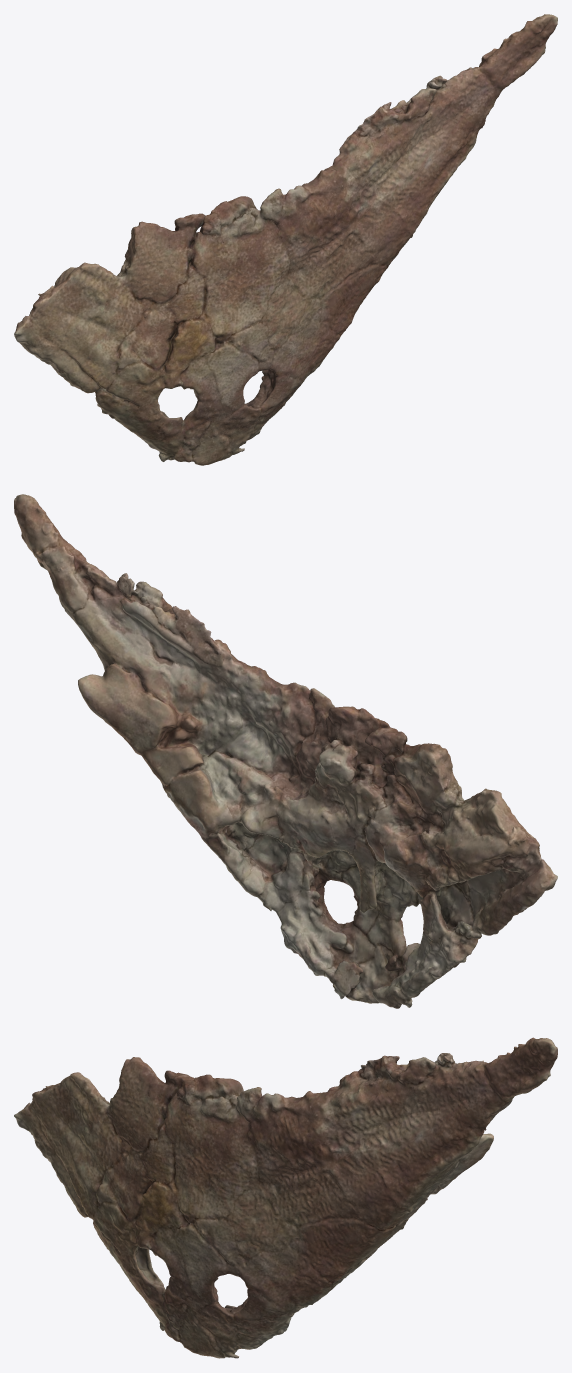
The picture shows the model from 3 angles, top to bottom: view 1: azimuth 30°, elevation 25°; view 2: azimuth 150°, elevation 25°; view 3: azimuth 330°, elevation 25°; orthographic projection. The views are drawn at different scales.
Visible parts, largest first — view 1: Diplocaulus_magnicornis-unwrapped-webmulti; view 2: Diplocaulus_magnicornis-unwrapped-webmulti; view 3: Diplocaulus_magnicornis-unwrapped-webmulti.
Part boxes in pixels (x1,y1,x2,y2): Diplocaulus_magnicornis-unwrapped-webmulti: [14, 14, 557, 465]; Diplocaulus_magnicornis-unwrapped-webmulti: [14, 494, 557, 1008]; Diplocaulus_magnicornis-unwrapped-webmulti: [14, 1037, 557, 1358].
Bounding box in the file's own units: 10316 × 7161 × 1284.
1 material, 1 textured.
